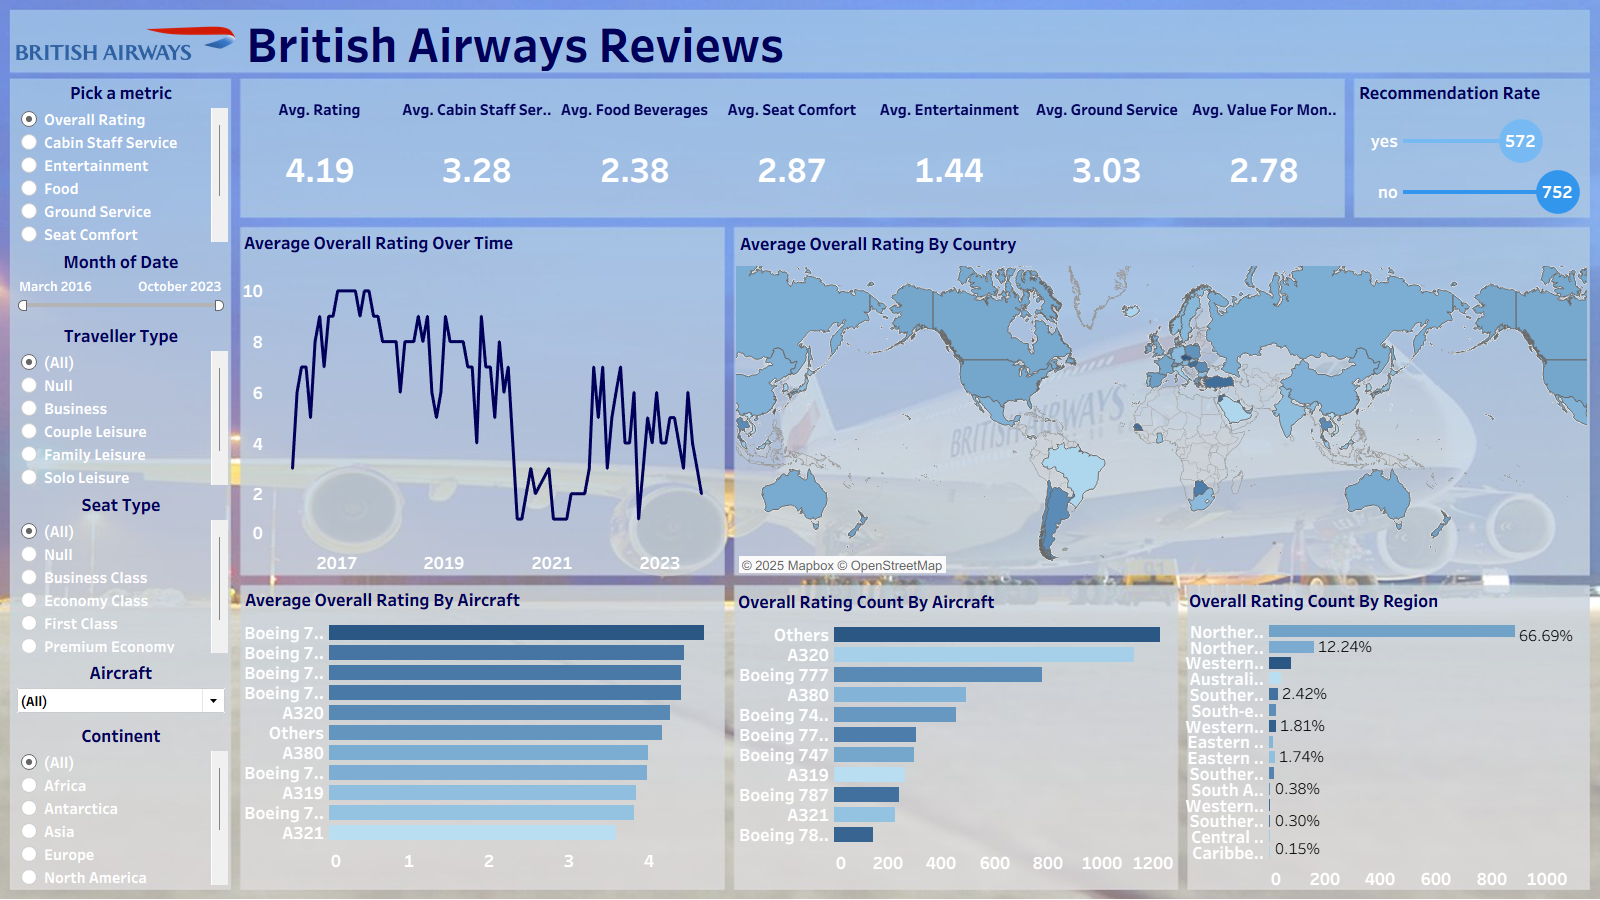

This screenshot's page, from the dashboard's own definition file:
{"tool":"tableau","page":{"name":"British-Airways-Reviews","canvas":[1600,900],"ordinal":0},"visuals":[{"type":"image","param":"C:/Users/Md.Kazi Sajiduddin/Downloads/Demo.jpg","box":[0,0,1600,900]},{"type":"image","param":"C:/Users/Md.Kazi Sajiduddin/Downloads/British_Airways_Logo.svg.png","box":[11,11,228,64]},{"type":"text","box":[239,11,1350,64]},{"type":"parameter","param":"[Parameters].[Parameter 1]","box":[10,77,222,168.5]},{"type":"worksheet","title":"Lolli Pop Plot","mark":"Bar","rows":["recommended"],"cols":["Calculation_1260726457773838339","Calculation_1260726457773838339"],"box":[1355,77,233,140]},{"type":"worksheet","title":"KPI","mark":"Automatic","box":[241,80,1102,137]},{"type":"worksheet","title":"Line Plot","mark":"Line","rows":["Calculation_1260726457773838339"],"cols":["date"],"box":[240,227,483,347]},{"type":"worksheet","title":"Map","mark":"Automatic","box":[736,228,851,347]},{"type":"filter","title":"KPI","param":"[federated.1lnkfj41ls4gtc1dqkewo0lhejjy].[tmn:date:qk]","box":[10,245.5,222,75]},{"type":"filter","title":"KPI","param":"[federated.1lnkfj41ls4gtc1dqkewo0lhejjy].[none:traveller_type:nk]","box":[10,320.5,222,168.5]},{"type":"filter","title":"KPI","param":"[federated.1lnkfj41ls4gtc1dqkewo0lhejjy].[none:seat_type:nk]","box":[10,489,222,168.5]},{"type":"worksheet","title":"Bar Plot 1","mark":"Automatic","cols":["Calculation_1260726457773838339"],"box":[241,584,482,304]},{"type":"worksheet","title":"Bar Plot 3","mark":"Automatic","rows":["Region"],"cols":["Calculation_1260726457773838339"],"box":[1185,585,404,305]},{"type":"worksheet","title":"Bar Plot 2","mark":"Automatic","cols":["rating"],"box":[734,586,442,303]},{"type":"filter","title":"KPI","param":"[federated.1lnkfj41ls4gtc1dqkewo0lhejjy].[Aircraft (group)]","box":[10,657.5,222,63]},{"type":"filter","title":"KPI","param":"[federated.1lnkfj41ls4gtc1dqkewo0lhejjy].[none:Continent:nk]","box":[10,720.5,222,168.5]}]}

Visuals, with their boxes in screenshot pixels (x1, y1, x2, y2), scaled from the page's 1600x900 canvas onto the 1600x900 screenshot:
image: locate(0, 0, 1599, 899)
image: locate(11, 11, 239, 75)
text: locate(239, 11, 1589, 75)
parameter: locate(10, 77, 232, 246)
"Lolli Pop Plot" worksheet (Bar marks): locate(1355, 77, 1588, 217)
"KPI" worksheet: locate(241, 80, 1343, 217)
"Line Plot" worksheet (Line marks): locate(240, 227, 723, 574)
"Map" worksheet: locate(736, 228, 1587, 575)
"KPI" filter: locate(10, 246, 232, 320)
"KPI" filter: locate(10, 320, 232, 489)
"KPI" filter: locate(10, 489, 232, 658)
"Bar Plot 1" worksheet: locate(241, 584, 723, 888)
"Bar Plot 3" worksheet: locate(1185, 585, 1589, 890)
"Bar Plot 2" worksheet: locate(734, 586, 1176, 889)
"KPI" filter: locate(10, 658, 232, 720)
"KPI" filter: locate(10, 720, 232, 889)
